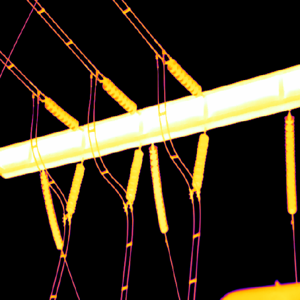insulator: (39, 168, 62, 249), (148, 144, 167, 233), (165, 55, 202, 99), (189, 133, 209, 198), (104, 80, 137, 116), (65, 161, 85, 216), (285, 116, 296, 215), (45, 99, 79, 131), (125, 146, 143, 201)
